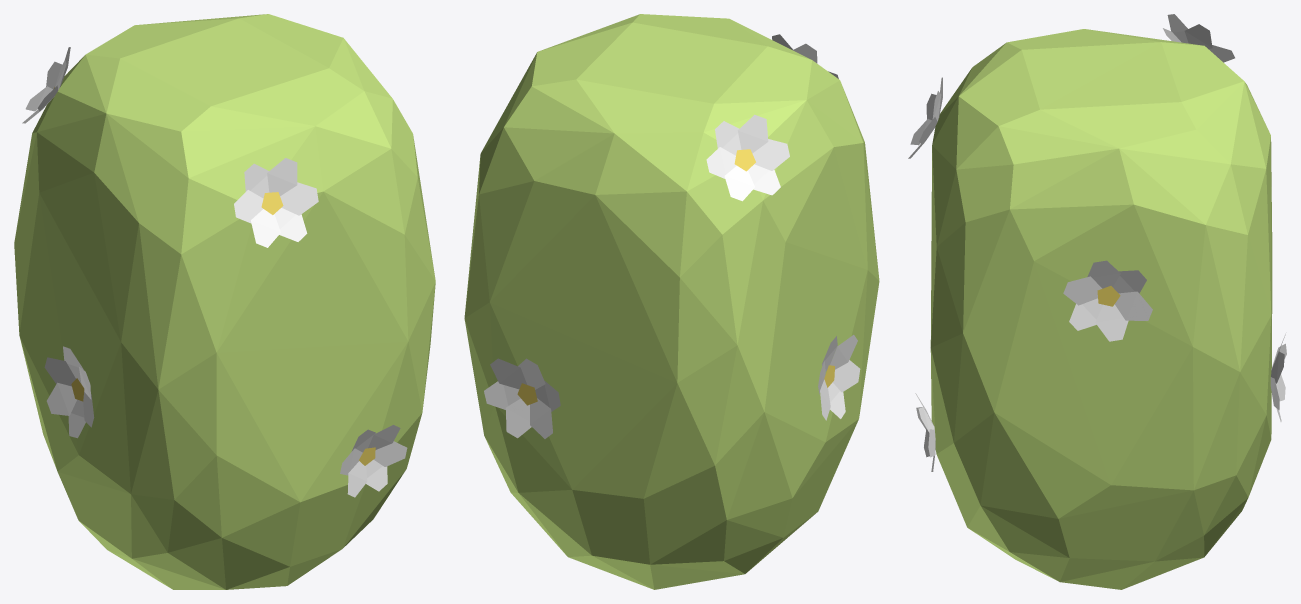
Rendered from FlowerBush_a_m_01.fbx.
The picture shows the model from 3 angles, left to right: view 1: azimuth 30°, elevation 25°; view 2: azimuth 150°, elevation 25°; view 3: azimuth 270°, elevation 25°; orthographic projection. The views are drawn at different scales.
Parts seen in each view (by area): view 1: FlowerBush_a_m_01_LOD0; view 2: FlowerBush_a_m_01_LOD0; view 3: FlowerBush_a_m_01_LOD0.
Part boxes in pixels (x1,y1,x2,y2): FlowerBush_a_m_01_LOD0: (14,14,435,589); FlowerBush_a_m_01_LOD0: (464,14,879,589); FlowerBush_a_m_01_LOD0: (908,14,1286,589).
Size of what is drawn, in the model's own units: 134 by 202 by 138.
